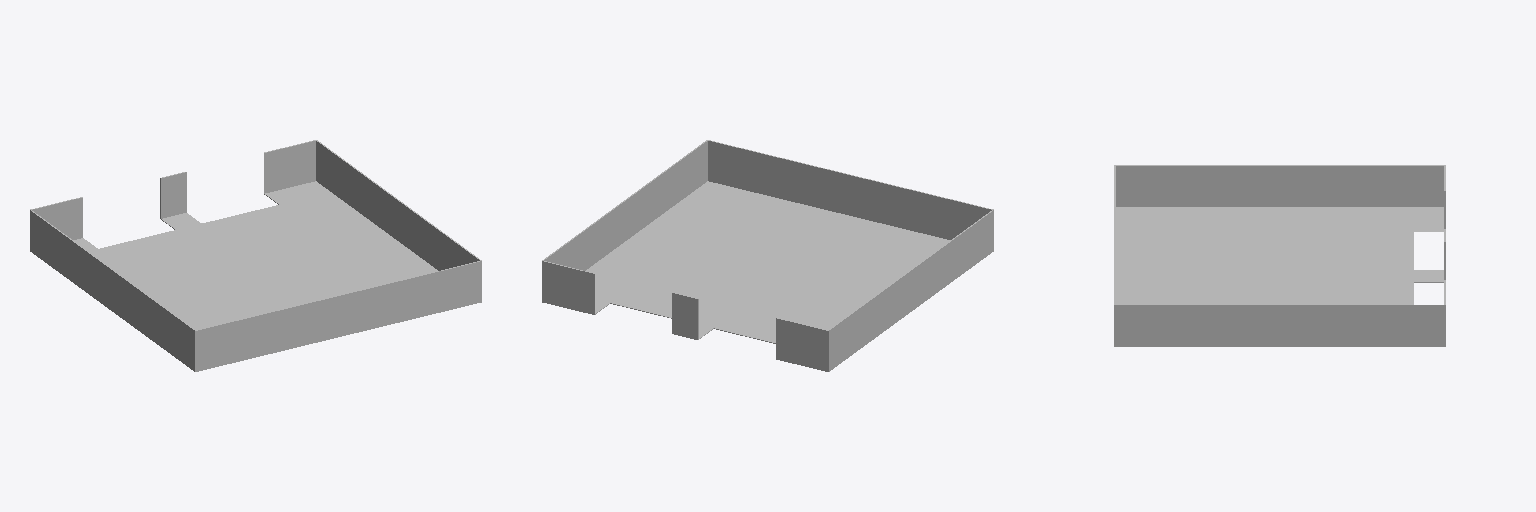
File: eco-disaster-arena.obj
3 renders of one model, left to right at view 1: azimuth 30°, elevation 25°; view 2: azimuth 150°, elevation 25°; view 3: azimuth 270°, elevation 25°, orthographic.
Parts seen in each view (by area): view 1: Body.006; view 2: Body.006; view 3: Body.006.
Boxes of the visible parts, box(x1,y1,x2,y2) form: Body.006: box(30, 140, 481, 371); Body.006: box(542, 140, 993, 371); Body.006: box(1114, 165, 1445, 346).
Size of the model in its own units: 2220 by 305 by 2220.